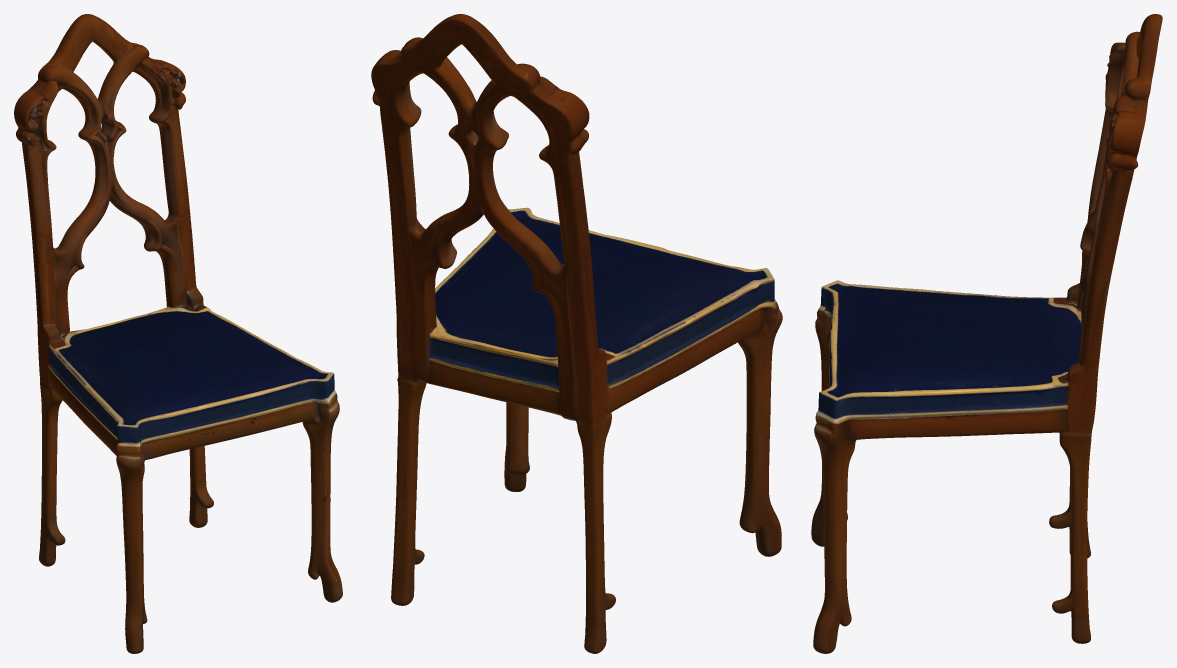
Rendered from m-chair-stylized.glb.
3 views of the same model, side by side, from view 1: azimuth 30°, elevation 25°; view 2: azimuth 150°, elevation 25°; view 3: azimuth 270°, elevation 25° (orthographic). The views are drawn at different scales.
Visible parts, largest first — view 1: tripo_node_3ece2eac-02de-4d5d-bc59-a1f58623eb20; view 2: tripo_node_3ece2eac-02de-4d5d-bc59-a1f58623eb20; view 3: tripo_node_3ece2eac-02de-4d5d-bc59-a1f58623eb20.
Boxes of the visible parts, x1=… form: tripo_node_3ece2eac-02de-4d5d-bc59-a1f58623eb20: x1=14, y1=14, x2=342, y2=653; tripo_node_3ece2eac-02de-4d5d-bc59-a1f58623eb20: x1=371, y1=14, x2=782, y2=653; tripo_node_3ece2eac-02de-4d5d-bc59-a1f58623eb20: x1=811, y1=14, x2=1162, y2=653.
Bounding box in the file's own units: 0.4581 × 1.01 × 0.5489.
Materials: 1 (1 with a texture image).
